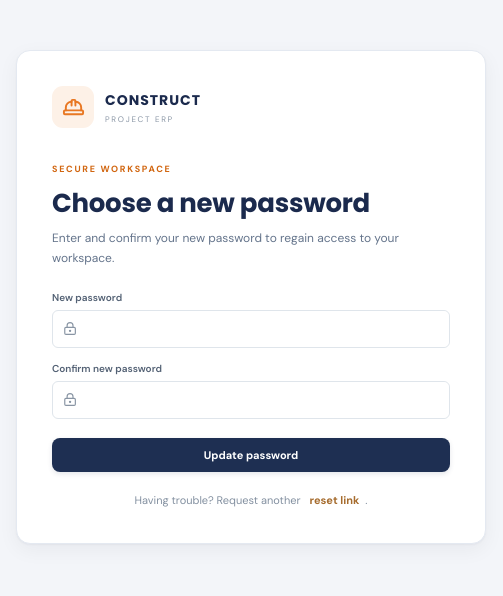
it: AuthPage password recovery › requires matching passwords before updating the account
Type "NewPassword123" into the password field labelled "New password" at (267, 329), box [85,311,449,347]
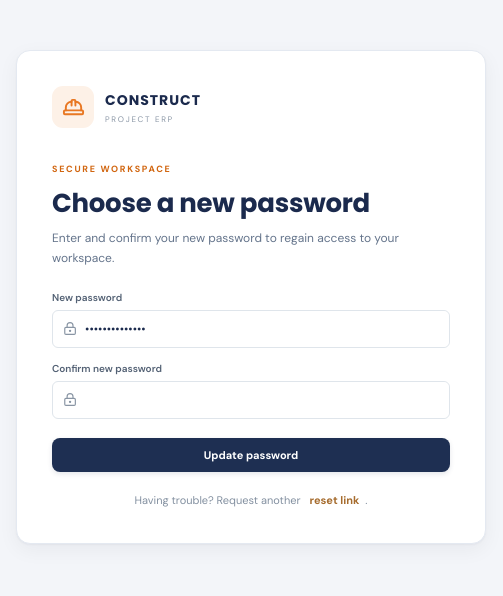
Type "DifferentPassword123" into the password field labelled "Confirm new password" at (267, 400), box [85,382,449,418]
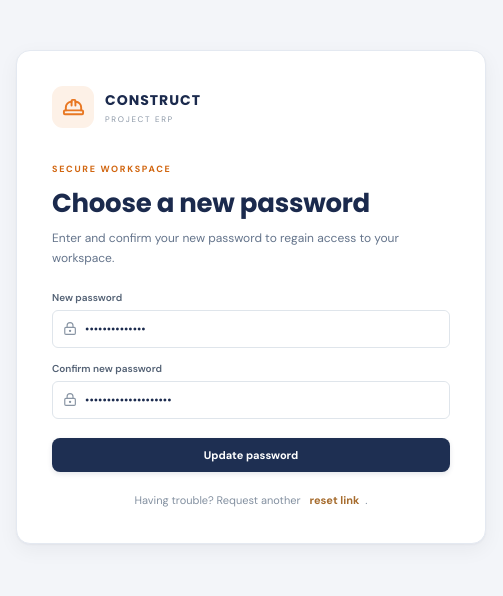
Click the button "Update password" at (251, 455), box [52,438,450,472]
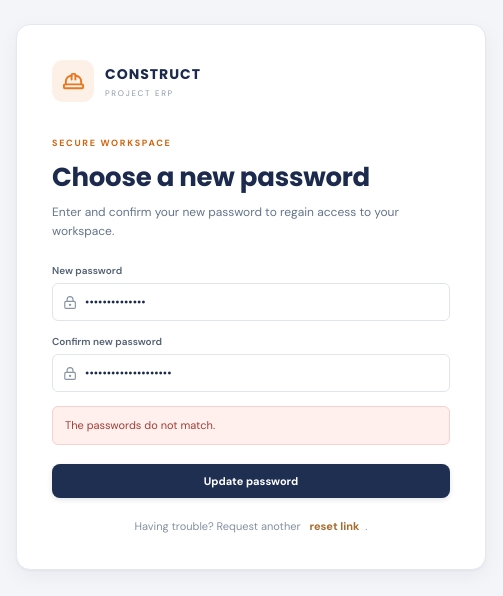
Check: the message reads "The passwords do not match.", box [65,418,215,432]
Type "NewPassword123" into the password field labelled "Confirm new password" at (267, 373), box [85,355,449,391]
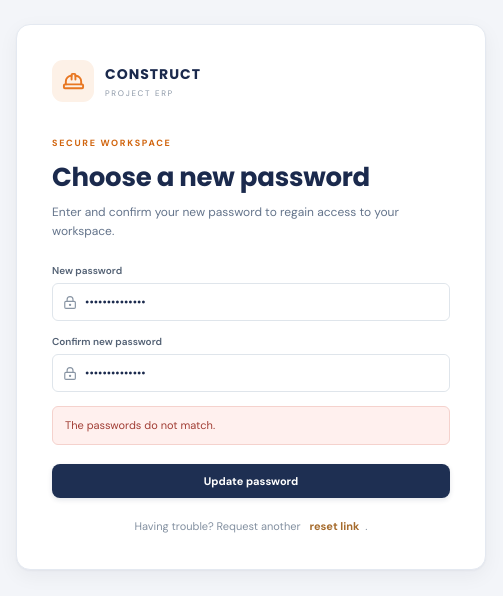
Click the button "Update password" at (251, 481), box [52,464,450,498]
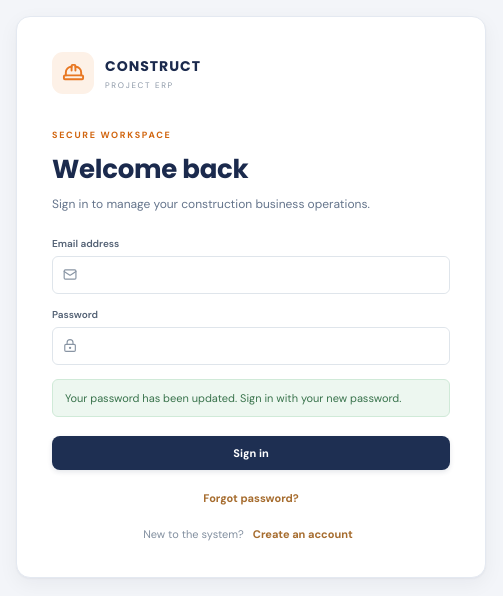
Check: the message shows "password has been updated", box [65,391,401,405]
